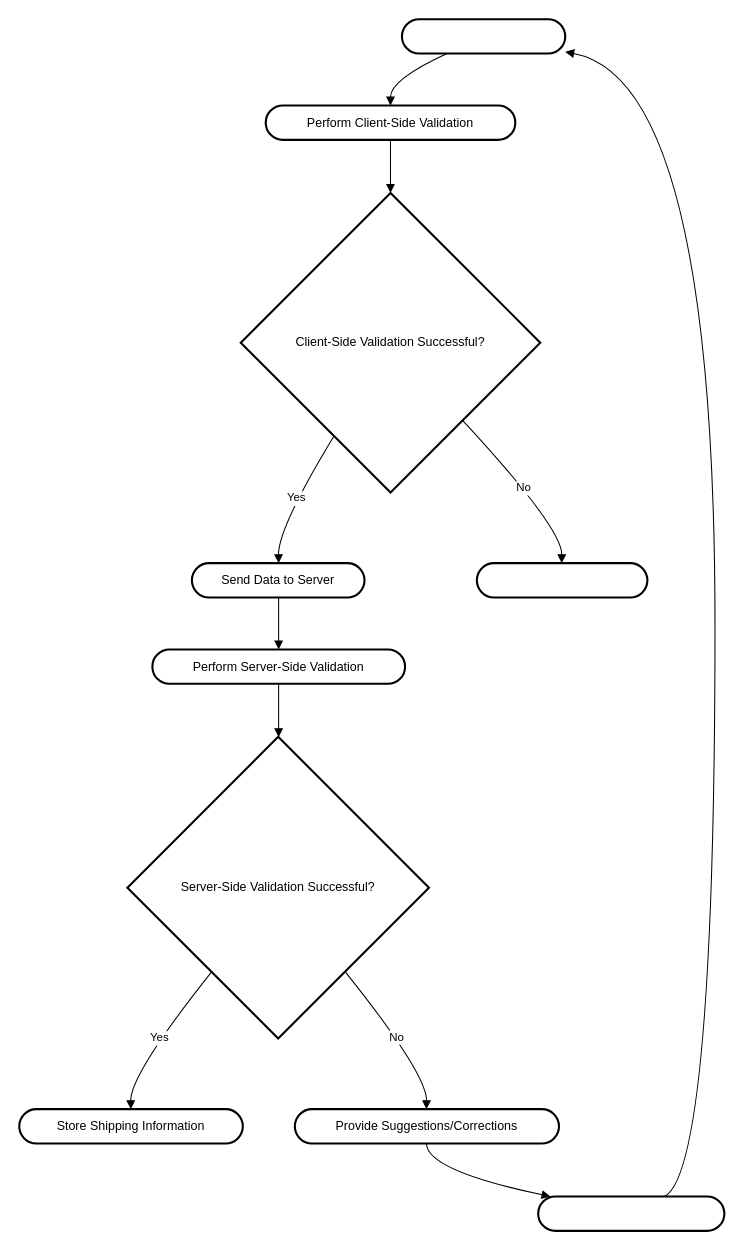
This 743x1249 diagram has some shape labels left out. The shapes that lost their labels are listed below. From the top down, each one's box as (x1, y1, x2, y2) in pixels, then its label:
(400, 18, 566, 54): User Submits Form
(475, 562, 648, 598): Show Error Message
(537, 1195, 725, 1231): User Corrects Address
